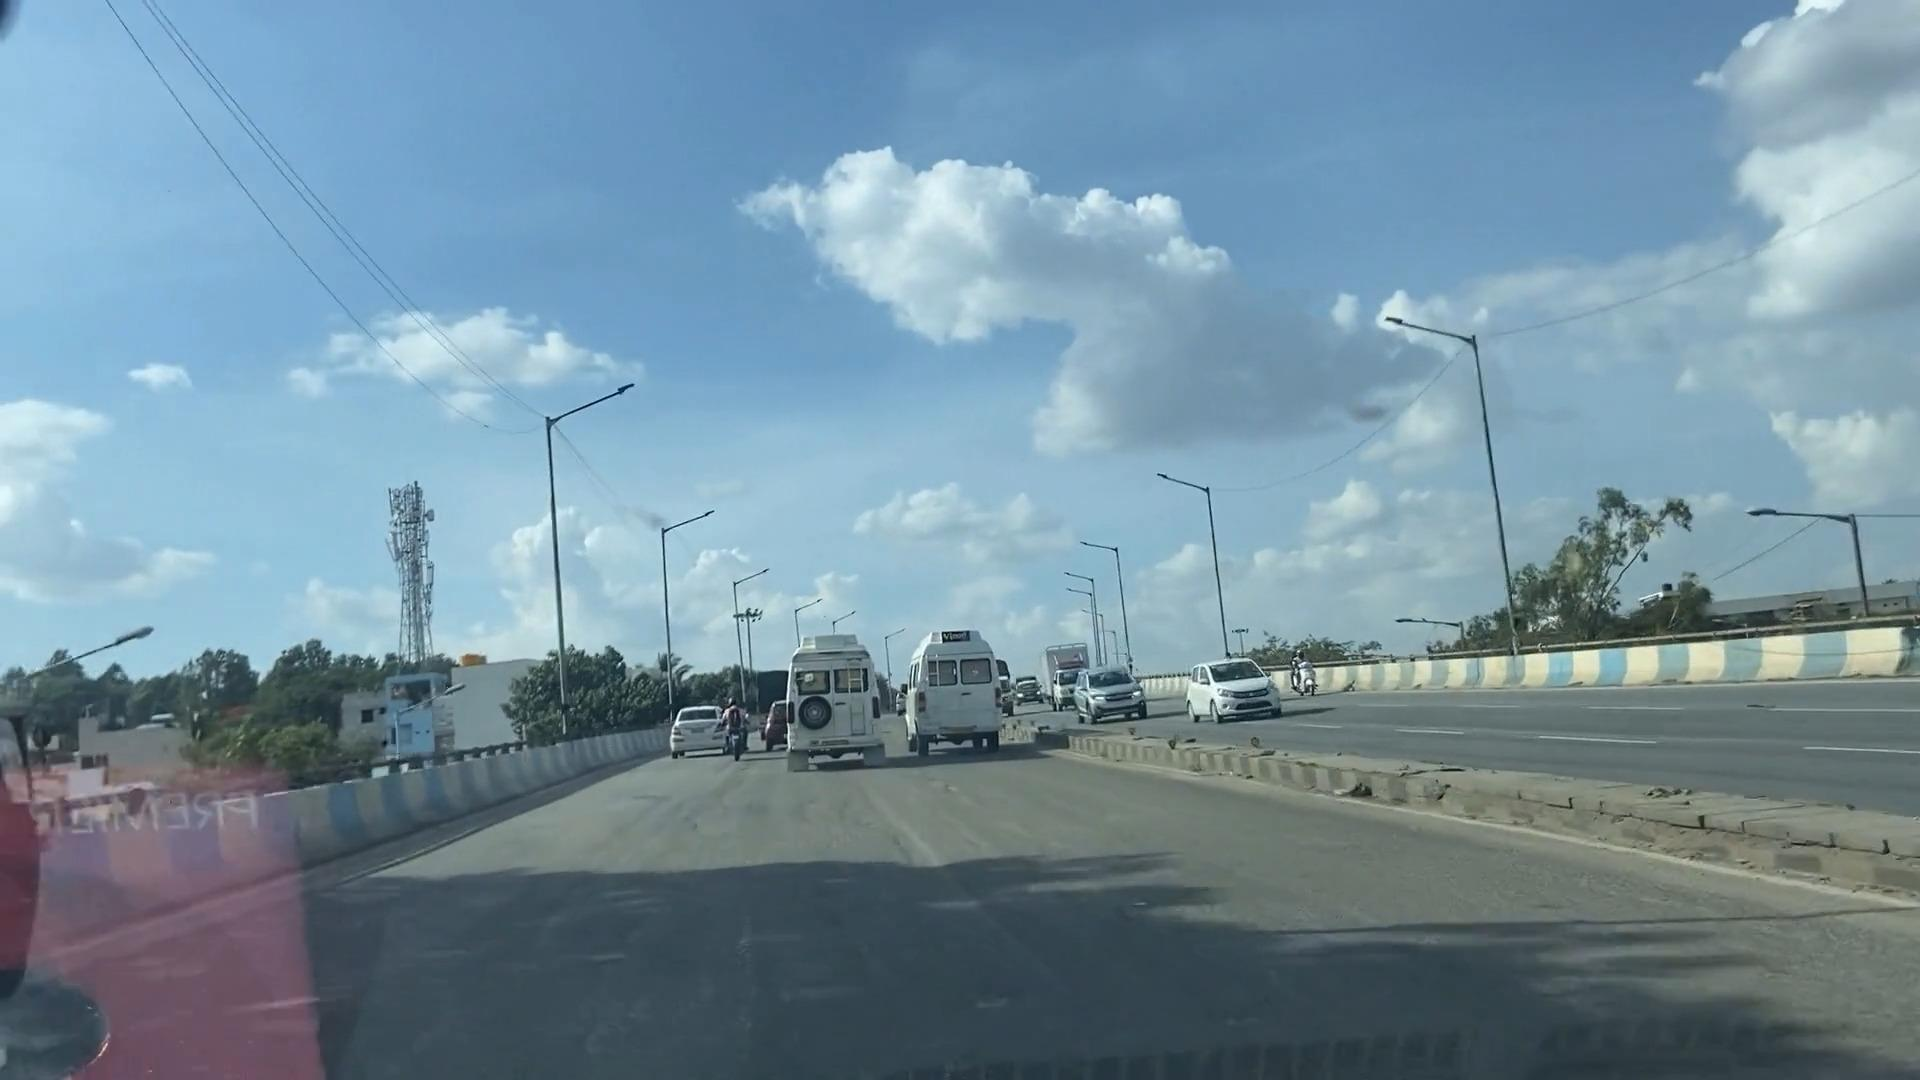HMV: (910, 616, 1013, 769), (789, 637, 887, 774)
